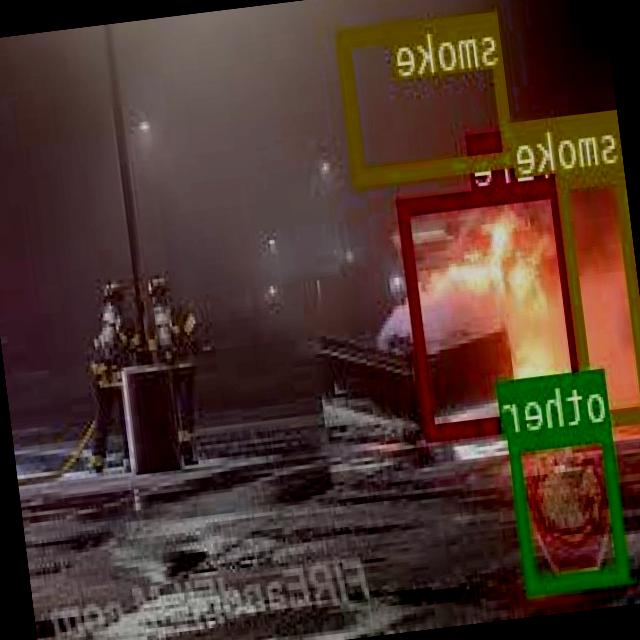fire: (400, 180, 590, 438)
smoke: (338, 8, 516, 183), (559, 164, 640, 422)
